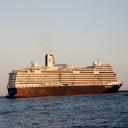cruises: (5, 53, 125, 100)
